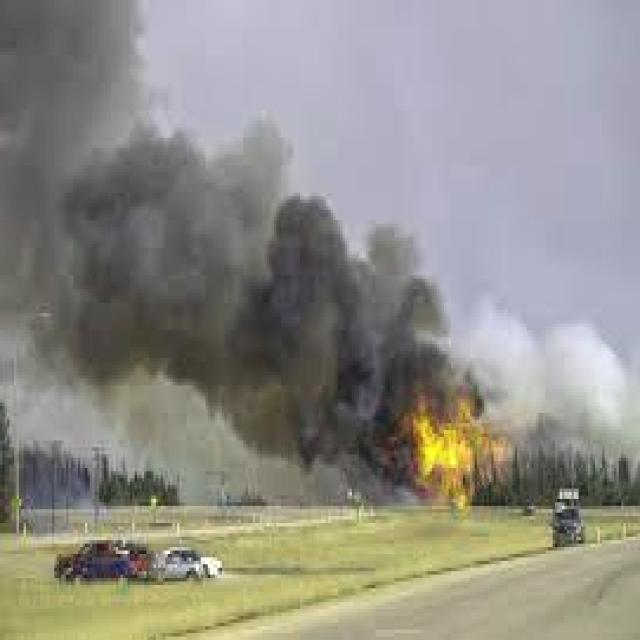fire: (392, 396, 517, 506)
